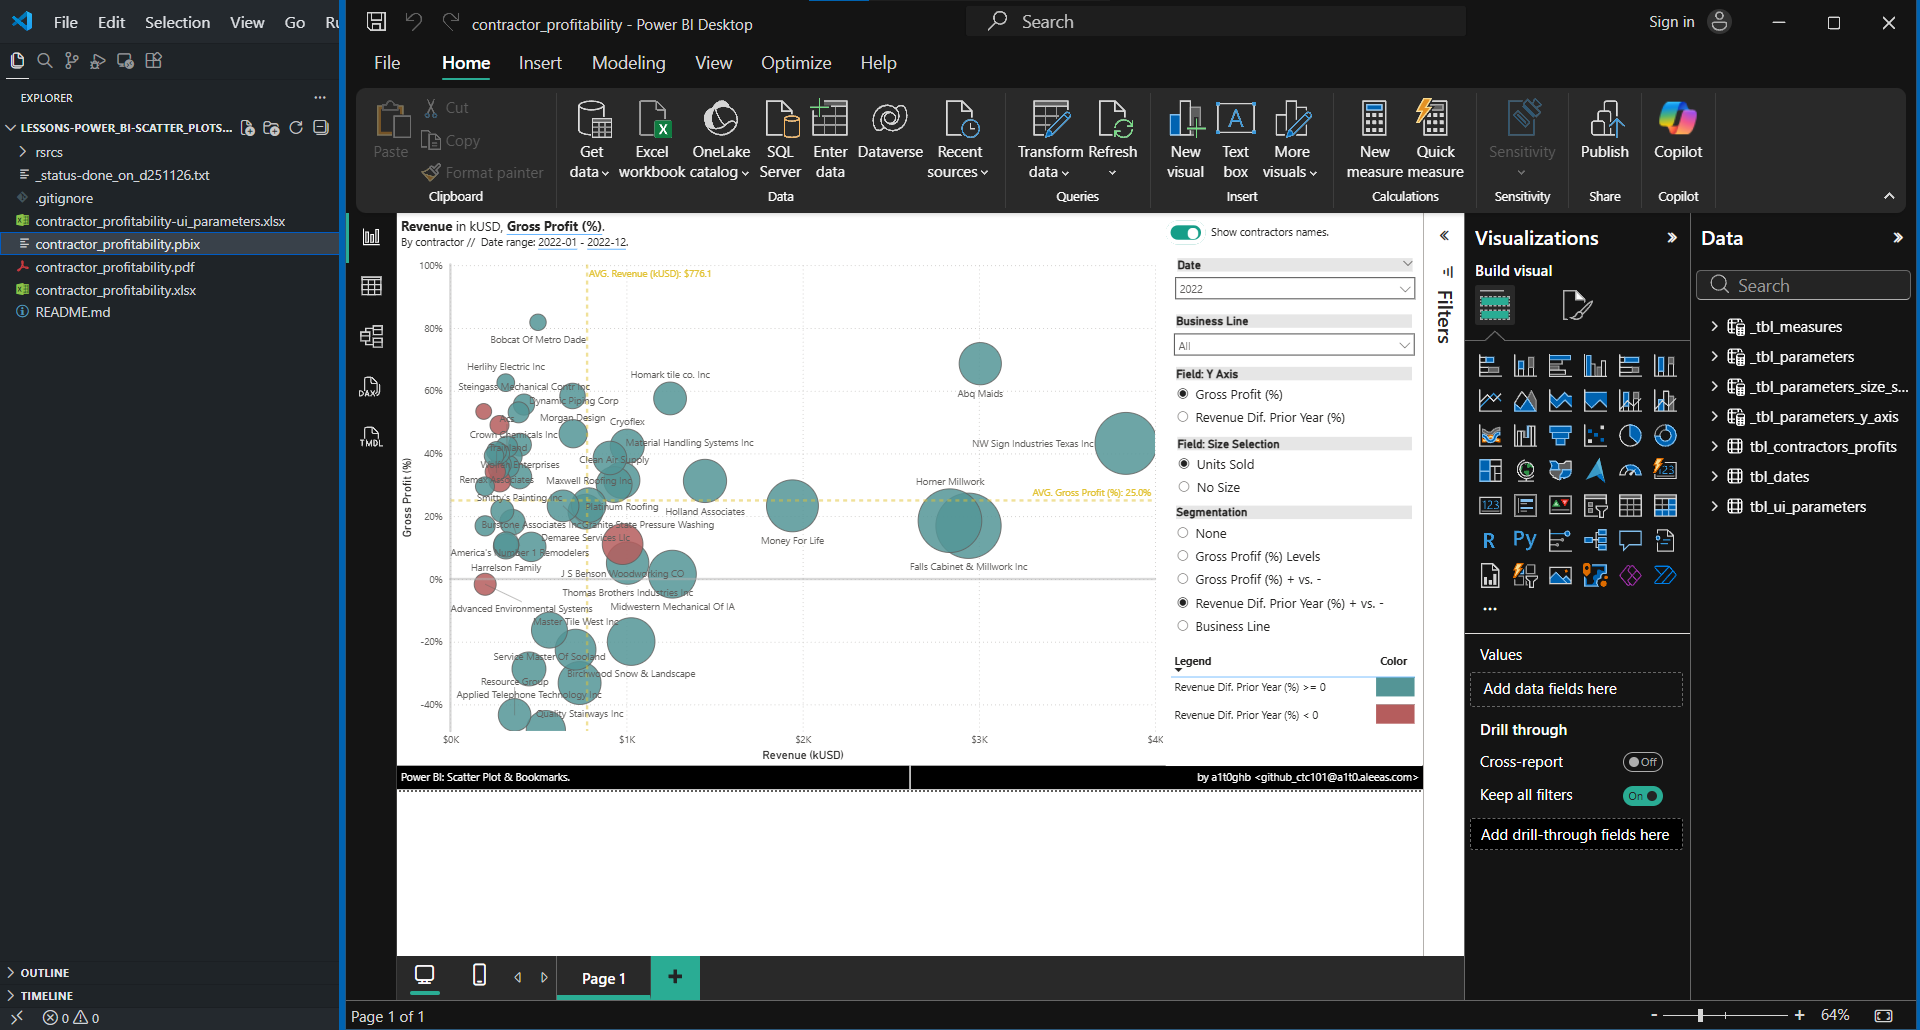

The dashboard page shown, as its layout file describes it:
{"tool":"powerbi","page":{"name":"Page 1","canvas":[1280,720],"ordinal":0},"visuals":[{"type":"tableEx","fields":{"Values":["tbl_parameters.segment","tbl_parameters.segment_index"]},"box":[959.3,541.2,320.3,178.7],"z":0},{"type":"scatterChart","fields":{"Y":["_tbl_measures.total_gross_profit_p"],"Size":["_tbl_measures.total_units"],"X":["_tbl_measures.total_revenue"],"Category":["tbl_contractors_profits.client_name"]},"box":[0,52,960.2,668.1],"z":1000},{"type":"slicer","fields":{"Values":["tbl_parameters.y_axis"]},"box":[959.3,187.1,320.3,87.7],"z":2000},{"type":"slicer","fields":{"Values":["tbl_dates.Year","tbl_dates.Month"]},"box":[960.2,52,319.5,68.8],"z":3000},{"type":"textbox","box":[0,0,959.3,52.3],"z":4000},{"type":"slicer","fields":{"Values":["Size Selection.Size Selection"]},"box":[961,274.8,318.7,86],"z":5000},{"type":"slicer","fields":{"Values":["tbl_ui_parameters.segment_category"]},"box":[959.3,360.8,320.3,180.4],"z":6000},{"type":"slicer","fields":{"Values":["tbl_contractors_profits.business_line"]},"box":[959.3,121.4,320.3,65.8],"z":6001}]}

Visuals, with their boxes on the page's 1280x720 design canvas (x1, y1, x2, y2). These are canvas units, not pixel positions in the 1920x1030 screenshot, which may show the page scaled, cropped or inside an application window:
tableEx - tbl_parameters.segment x tbl_parameters.segment_index: rect(959, 541, 1280, 720)
scatterChart - _tbl_measures.total_gross_profit_p x _tbl_measures.total_units: rect(0, 52, 960, 720)
slicer - tbl_parameters.y_axis: rect(959, 187, 1280, 275)
slicer - tbl_dates.Year x tbl_dates.Month: rect(960, 52, 1280, 121)
textbox: rect(0, 0, 959, 52)
slicer - Size Selection.Size Selection: rect(961, 275, 1280, 361)
slicer - tbl_ui_parameters.segment_category: rect(959, 361, 1280, 541)
slicer - tbl_contractors_profits.business_line: rect(959, 121, 1280, 187)
